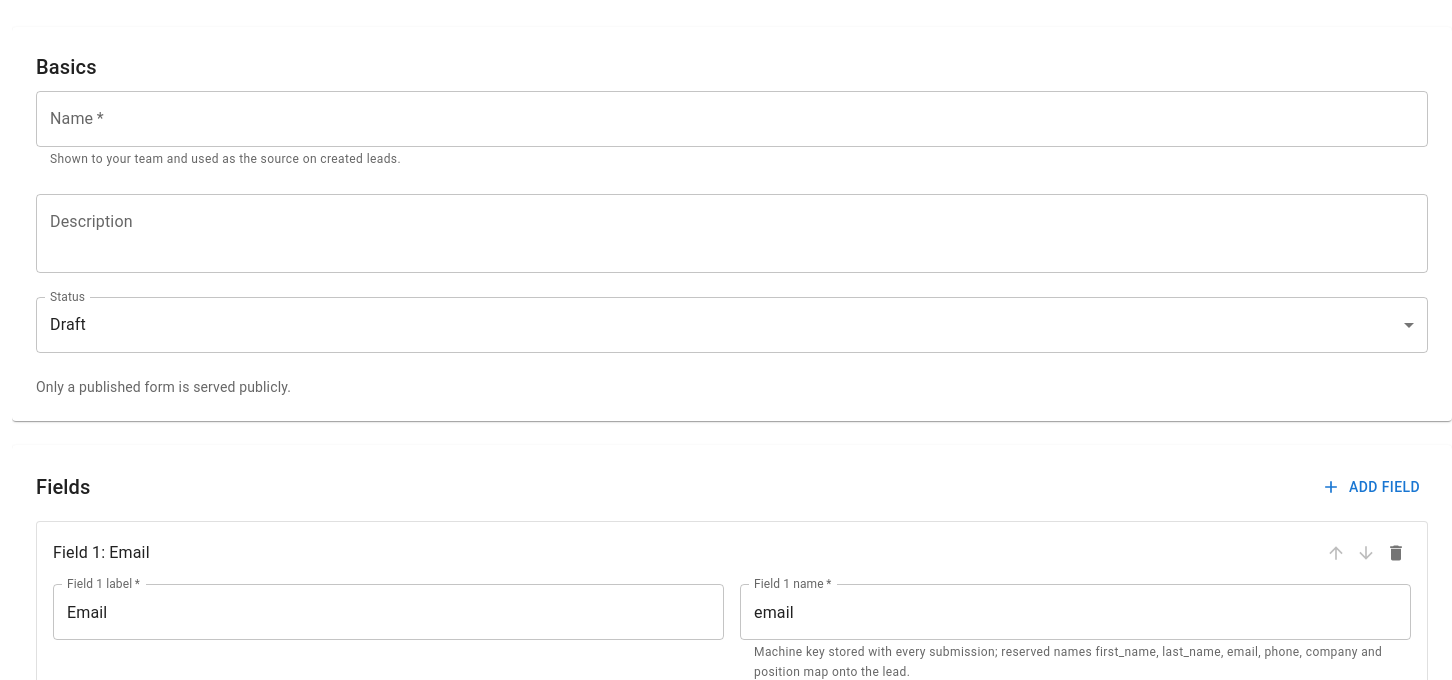
Test: FormBuilder › renders the editors for a newly added field
Click the button "Add field". click: (1372, 487)
box: [1317,469,1428,505]
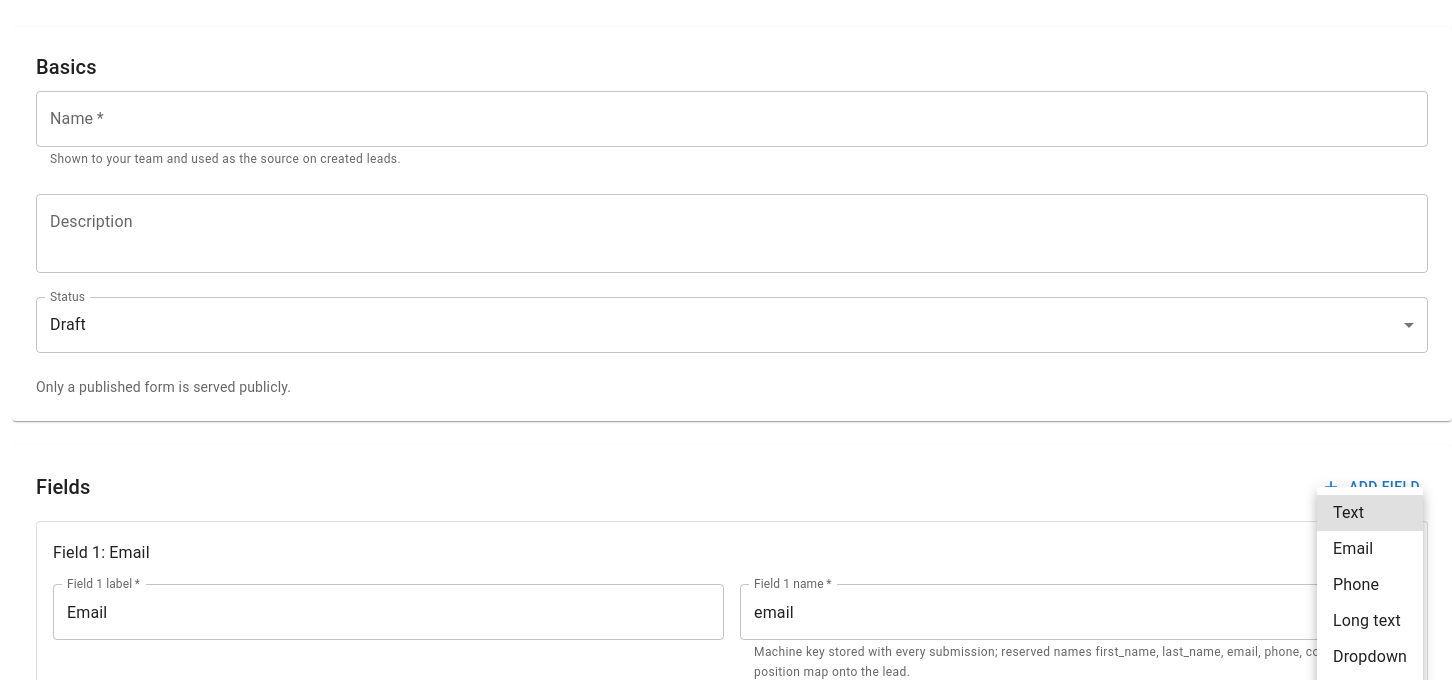
Click the menu item "Dropdown". click: (1370, 656)
box: [1333,647,1407,666]
(page scrolled)
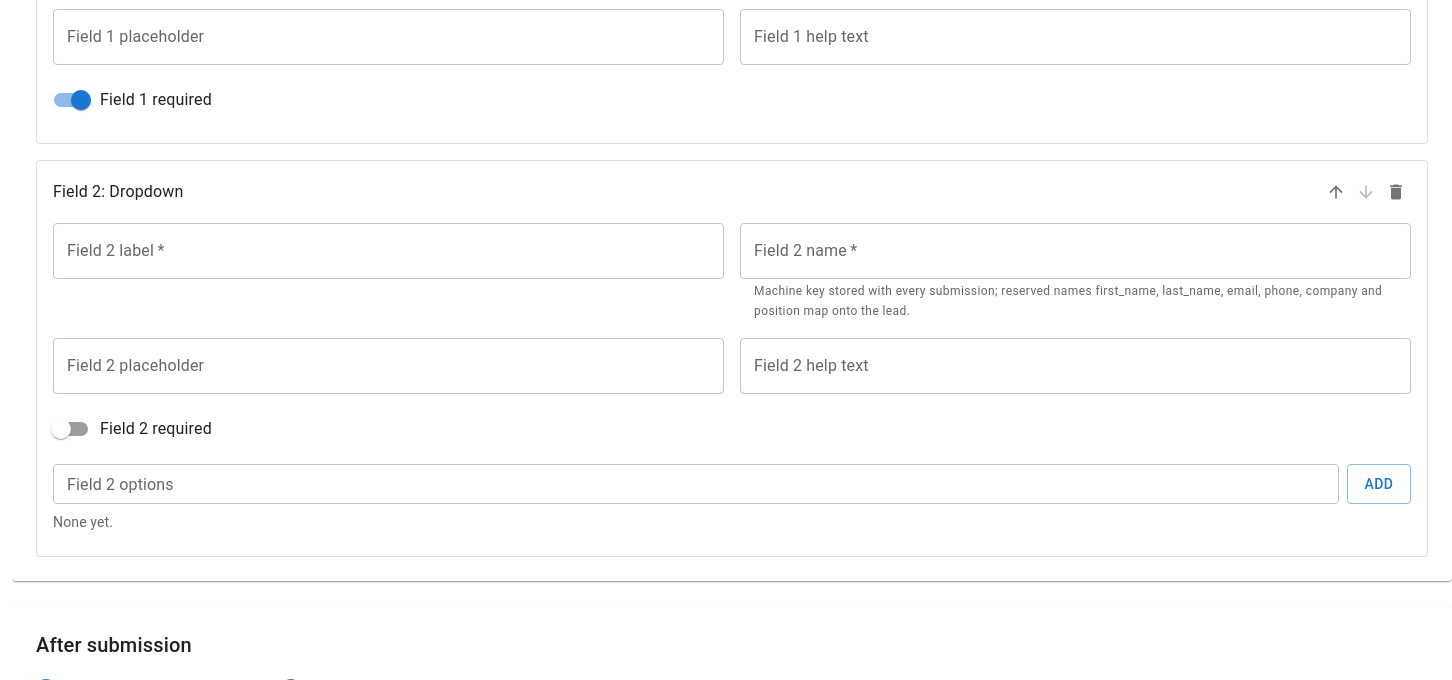
Result: the field labelled "Field 2 label *" is shown at [53,223,724,279]
Result: the field labelled "Field 2 name *" is shown at [740,223,1411,279]
Result: the field labelled "Field 2 options" is shown at [53,464,1339,504]
